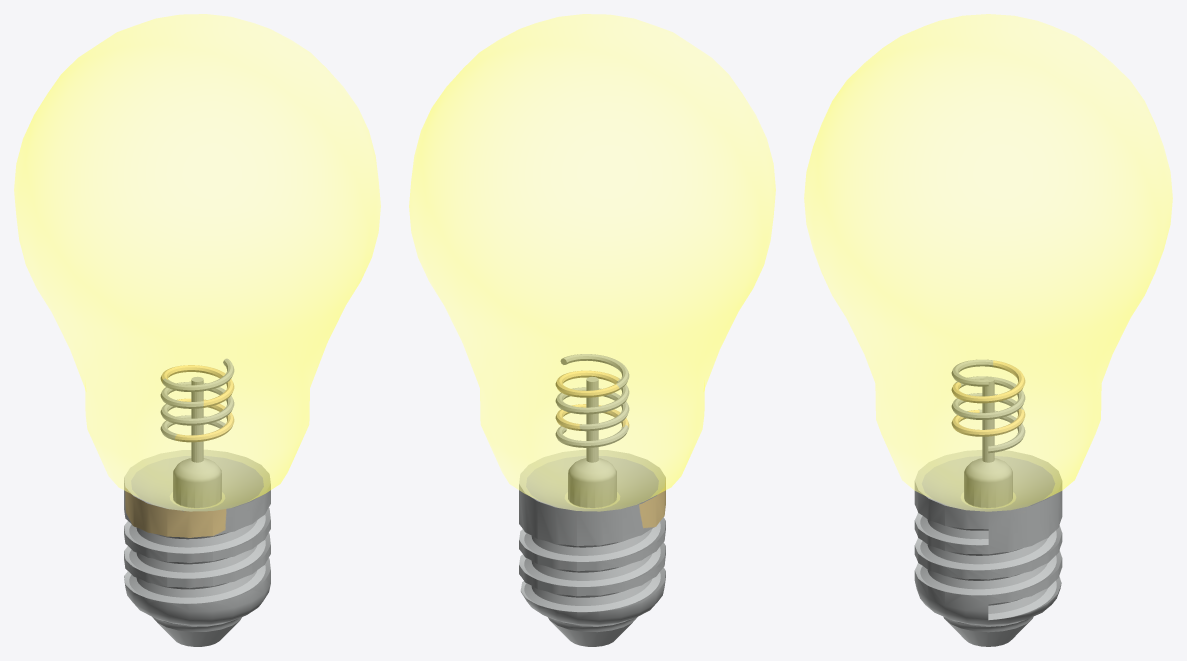
The picture shows the model from 3 angles, left to right: view 1: azimuth 30°, elevation 25°; view 2: azimuth 150°, elevation 25°; view 3: azimuth 270°, elevation 25°; orthographic projection.
Visible parts, largest first — view 1: Bulb, Base; view 2: Bulb, Base; view 3: Bulb, Base.
Part boxes in pixels (bbox=[...]): Bulb: bbox=[14, 14, 380, 511]; Base: bbox=[124, 358, 270, 646]; Bulb: bbox=[409, 14, 775, 511]; Base: bbox=[519, 354, 665, 646]; Bulb: bbox=[804, 14, 1172, 511]; Base: bbox=[914, 359, 1062, 646].
Bounding box in the file's own units: 0.02 × 0.0362 × 0.02.
Materials: 2 (1 with a texture image).
